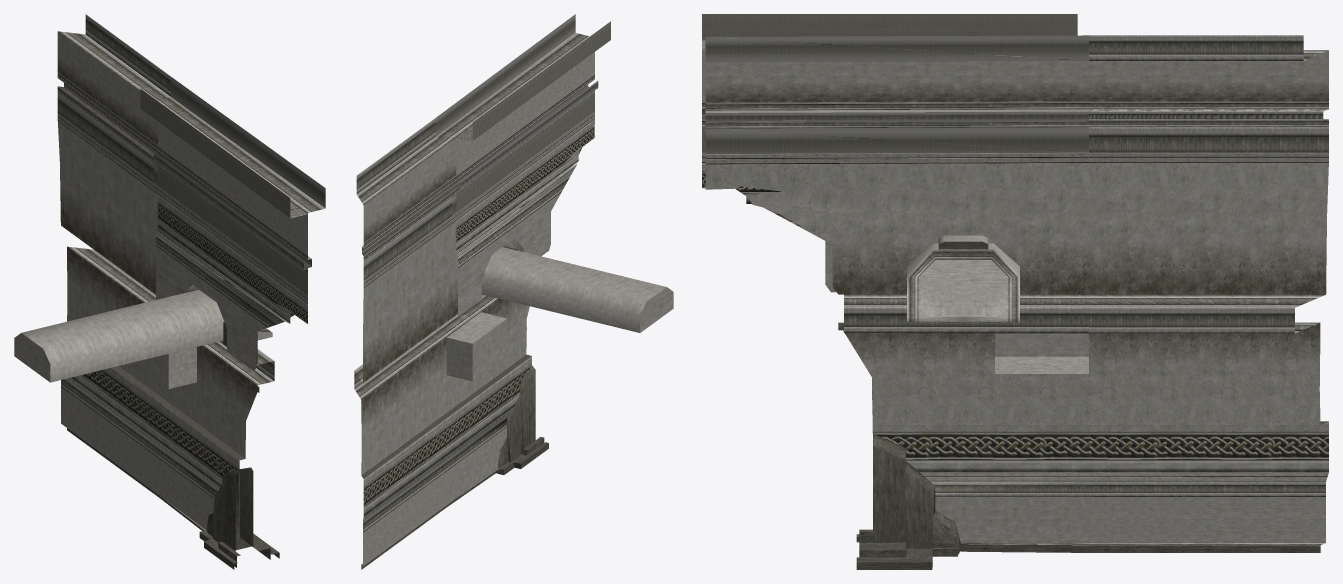
File: DWARF_PALACE_ARKENSTONE_ROOM_DWALLA02.fbx
3 views of the same model, side by side, from view 1: azimuth 30°, elevation 25°; view 2: azimuth 150°, elevation 25°; view 3: azimuth 270°, elevation 25° (orthographic). The views are drawn at different scales.
Visible parts, largest first — view 1: DWARF_PALACE_ARKENSTONE_ROOM_DWALLA02; view 2: DWARF_PALACE_ARKENSTONE_ROOM_DWALLA02; view 3: DWARF_PALACE_ARKENSTONE_ROOM_DWALLA02.
Part boxes in pixels (<box>): DWARF_PALACE_ARKENSTONE_ROOM_DWALLA02: <box>14,14,325,569</box>; DWARF_PALACE_ARKENSTONE_ROOM_DWALLA02: <box>354,14,673,569</box>; DWARF_PALACE_ARKENSTONE_ROOM_DWALLA02: <box>702,14,1328,569</box>.
Size of the model in its own units: 111689 by 205000 by 222002.
Materials: 9 (9 with a texture image).
